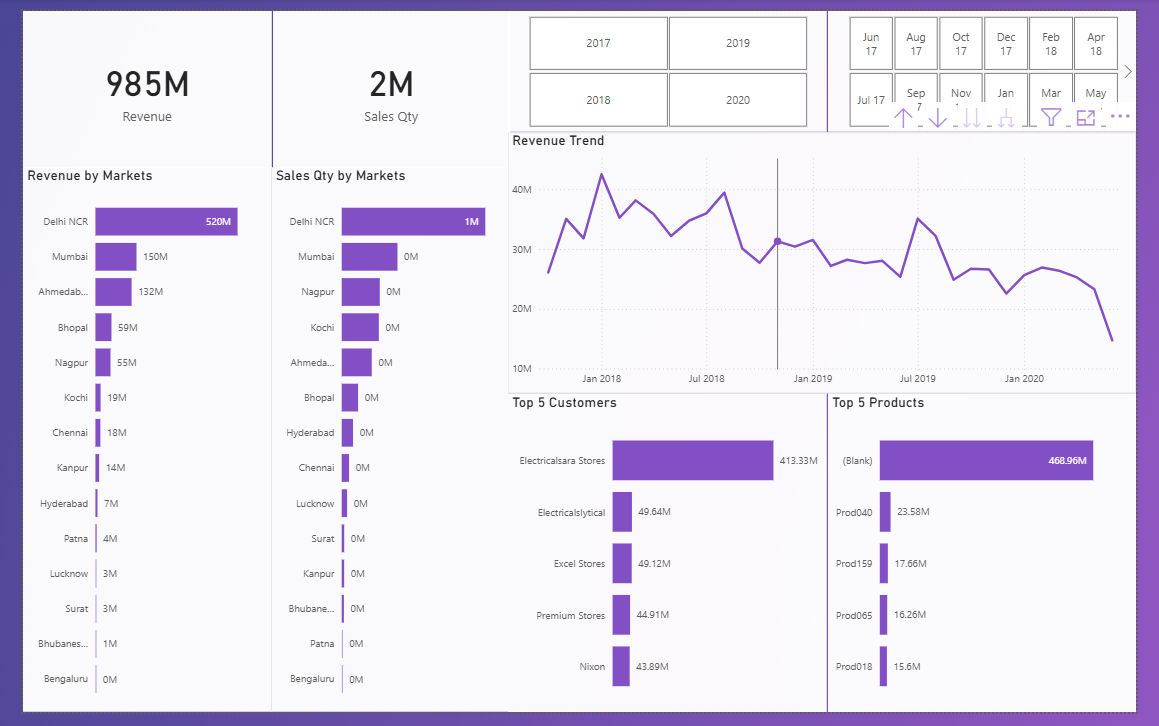

The dashboard page shown, as its layout file describes it:
{"tool":"powerbi","page":{"name":"Page 1","canvas":[1350,850],"ordinal":0},"visuals":[{"type":"card","fields":{"Values":["BaseMeasures.Revenue"]},"box":[0,0,301.7,190],"z":0},{"type":"card","fields":{"Values":["BaseMeasures.Sales Qty"]},"box":[301.7,0,286.7,190],"z":1000},{"type":"barChart","title":"Revenue by Markets ","fields":{"Y":["BaseMeasures.Revenue"],"Category":["sales markets.markets_name"]},"box":[0,190,301.7,660],"z":2000},{"type":"barChart","title":"Sales Qty by Markets","fields":{"Category":["sales markets.markets_name"],"Y":["BaseMeasures.Sales Qty"]},"box":[301.7,190,286.7,660],"z":3000},{"type":"slicer","fields":{"Values":["sales date.year"]},"box":[588.3,0,386.7,146.7],"z":4000},{"type":"slicer","fields":{"Values":["sales date.cy_date"]},"box":[975,0,375,146.7],"z":5000},{"type":"barChart","title":"Top 5 Customers","fields":{"Y":["BaseMeasures.Revenue"],"Category":["sales customers.custmer_name"]},"box":[588.3,463.3,386.7,386.7],"z":6000},{"type":"barChart","title":"Top 5 Products","fields":{"Y":["BaseMeasures.Revenue"],"Category":["sales products.product_code"]},"box":[975,463.3,375,386.7],"z":7000},{"type":"lineChart","title":"Revenue Trend","fields":{"Category":["sales date.cy_date.Variation.Date Hierarchy.Year","sales date.cy_date.Variation.Date Hierarchy.Quarter","sales date.cy_date.Variation.Date Hierarchy.Month","sales date.cy_date.Variation.Date Hierarchy.Day"],"Y":["BaseMeasures.Revenue"]},"box":[588.3,146.7,761.7,316.7],"z":8000}]}

Visuals, with their boxes in screenshot pixels (x1, y1, x2, y2), scaled from the page's 1350x850 canvas onto the 1159x726 screenshot:
card - BaseMeasures.Revenue: Rect(0, 0, 259, 162)
card - BaseMeasures.Sales Qty: Rect(259, 0, 505, 162)
"Revenue by Markets " barChart: Rect(0, 162, 259, 725)
"Sales Qty by Markets" barChart: Rect(259, 162, 505, 725)
slicer - sales date.year: Rect(505, 0, 837, 125)
slicer - sales date.cy_date: Rect(837, 0, 1158, 125)
"Top 5 Customers" barChart: Rect(505, 396, 837, 725)
"Top 5 Products" barChart: Rect(837, 396, 1158, 725)
"Revenue Trend" lineChart: Rect(505, 125, 1158, 396)
